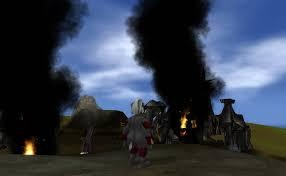fire: (22, 138, 37, 155)
